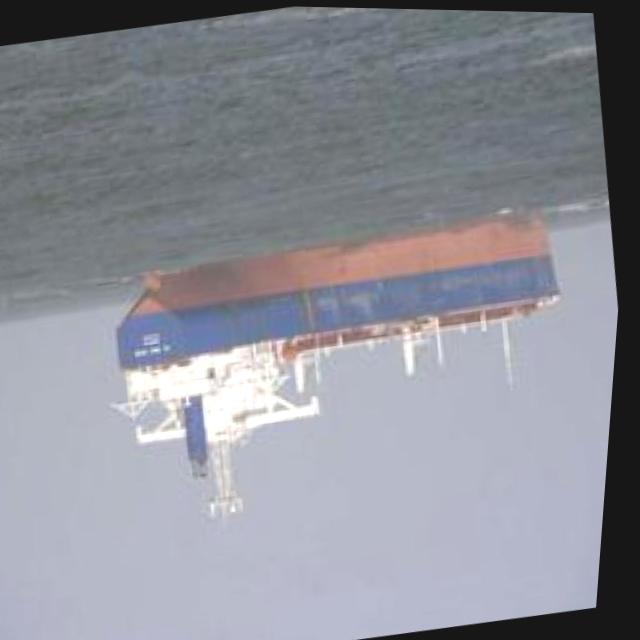ship2: (113, 210, 567, 515)
